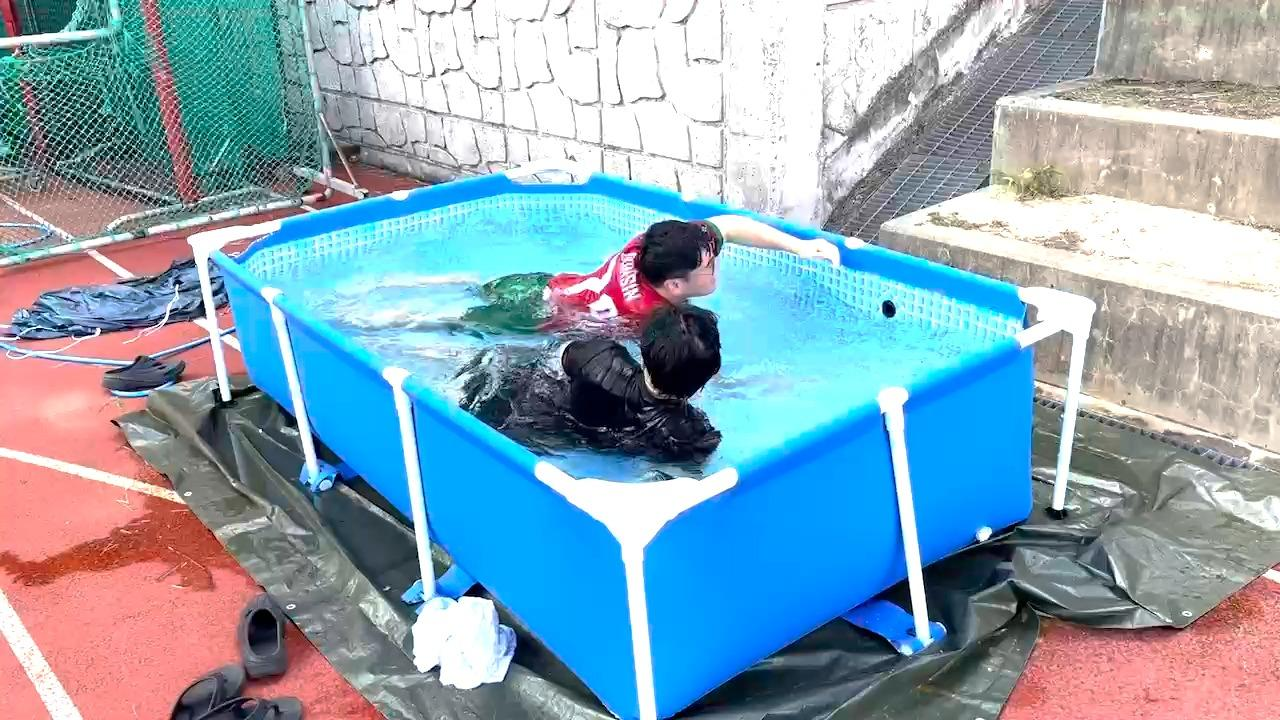Swimming: (340, 198, 847, 334), (449, 301, 737, 488)
